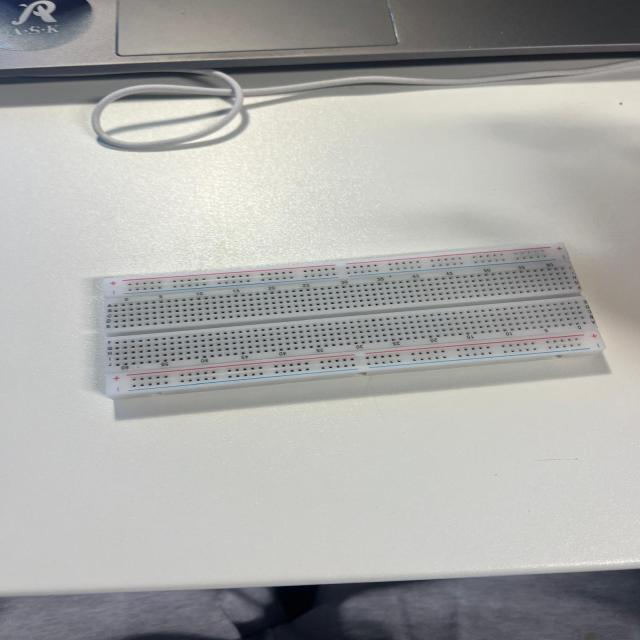BreadBoard: (88, 234, 620, 418)
